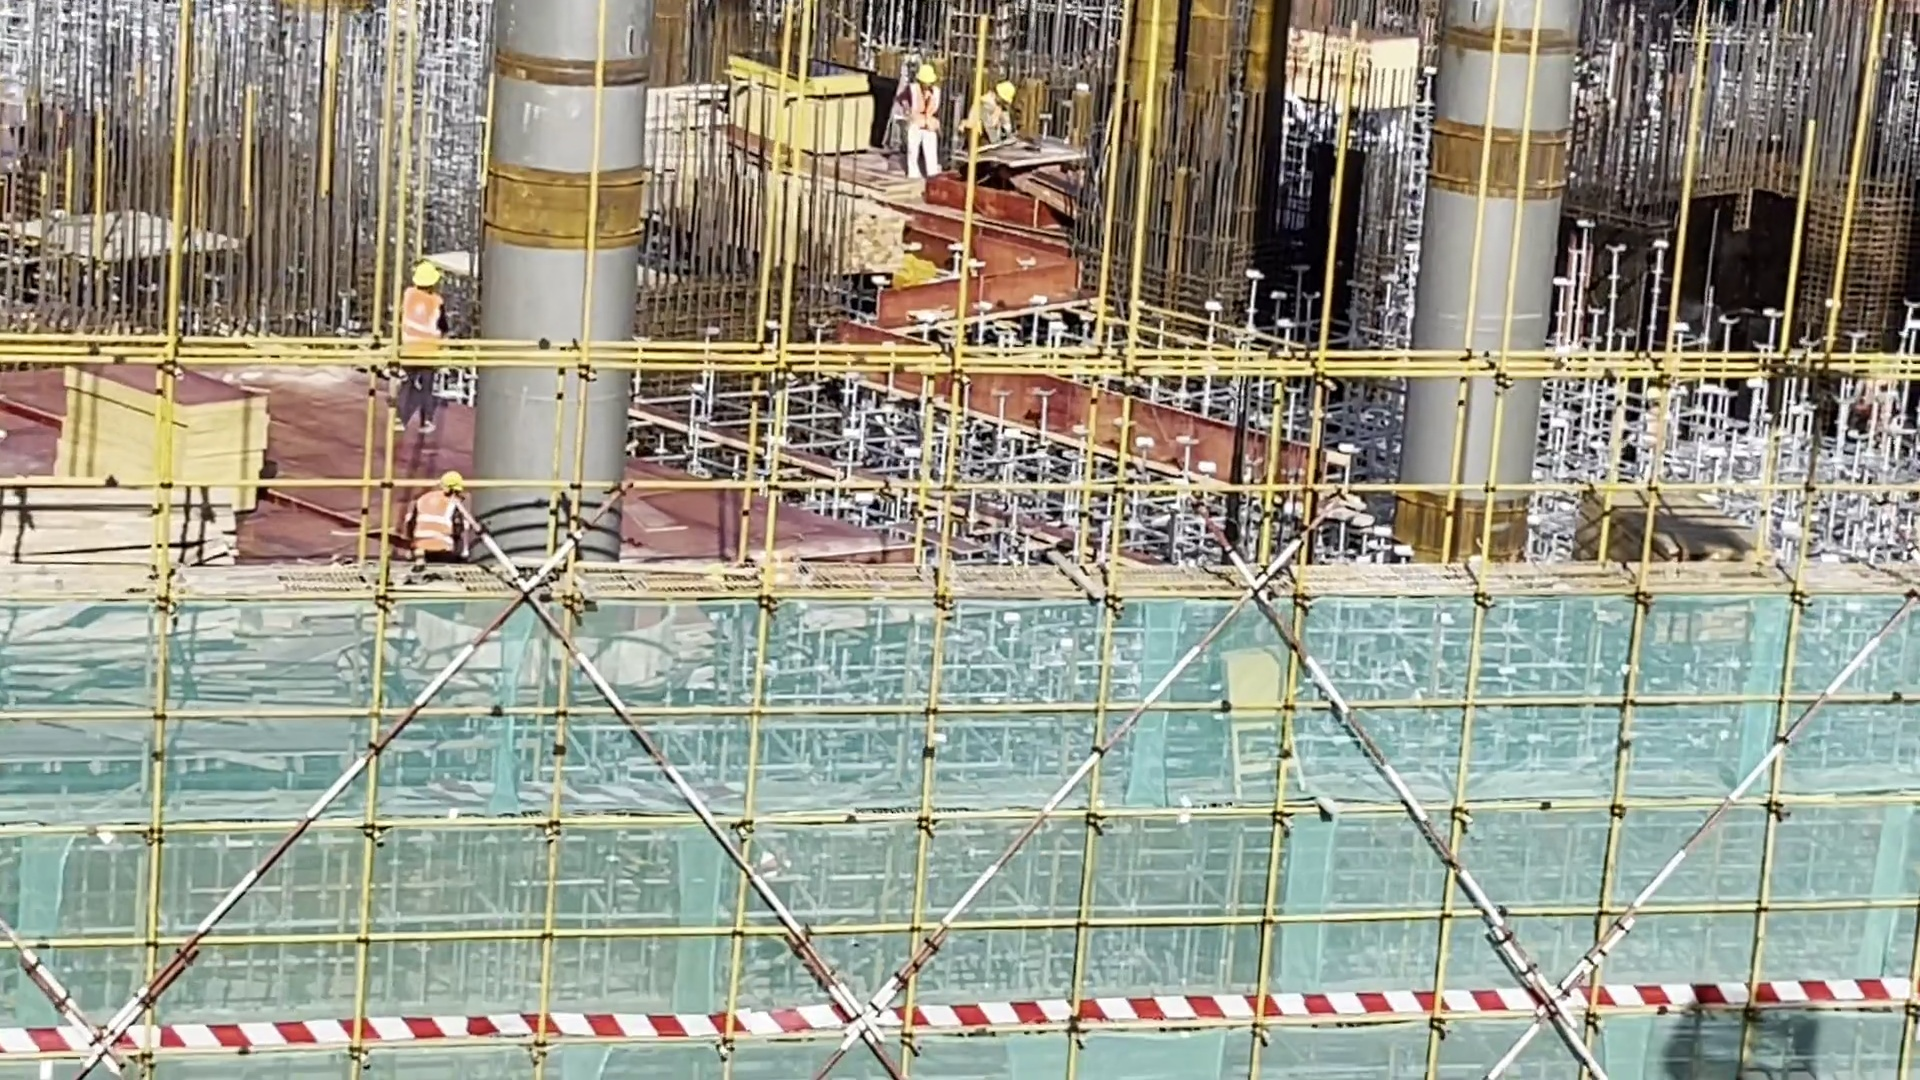board: (40, 349, 286, 534), (1569, 490, 1772, 586), (722, 49, 881, 161)
ebox: (1220, 641, 1320, 805)
helmet: (412, 262, 448, 291), (437, 462, 466, 499), (910, 65, 939, 93), (997, 76, 1018, 110)
person: (381, 259, 465, 436), (409, 461, 480, 581), (891, 58, 954, 190), (961, 80, 1023, 184)
vest: (414, 493, 455, 570), (400, 289, 446, 351), (904, 83, 941, 137)
wood: (1, 485, 251, 598)
